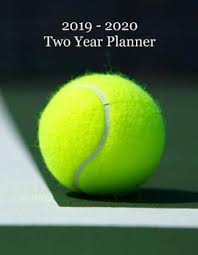tennis_ball: (36, 71, 167, 197)
